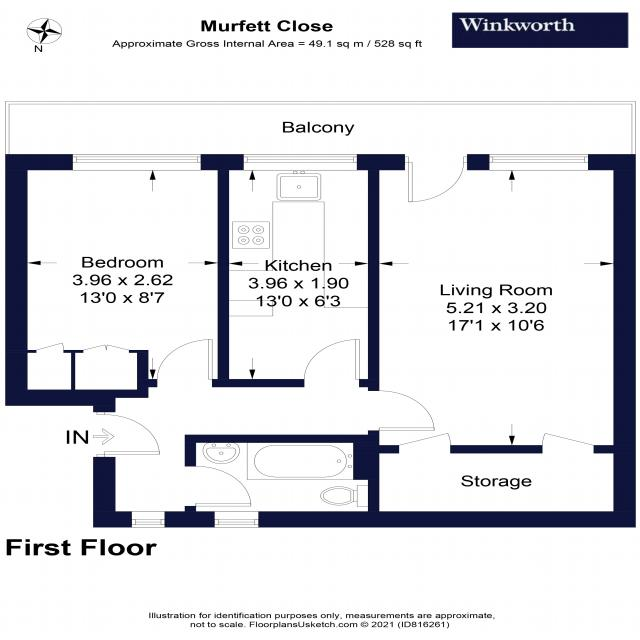DOOR: (401, 153, 469, 204), (93, 411, 160, 458), (154, 338, 215, 387), (367, 389, 436, 432), (301, 338, 361, 387), (184, 465, 252, 507)
ROOM: (353, 153, 637, 454), (5, 153, 230, 406), (217, 154, 380, 388)
WINDOW: (70, 153, 203, 171), (241, 153, 359, 171), (487, 153, 590, 172), (213, 511, 260, 528), (130, 511, 166, 528)
